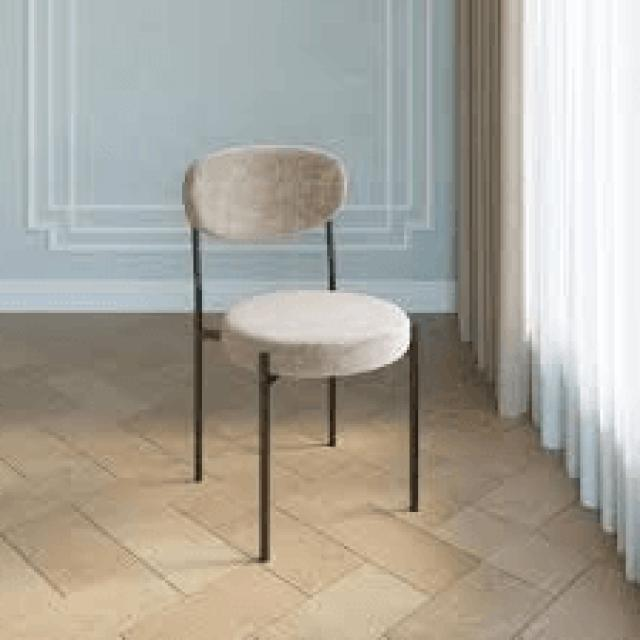chair: (177, 140, 426, 566), (158, 127, 424, 382)
